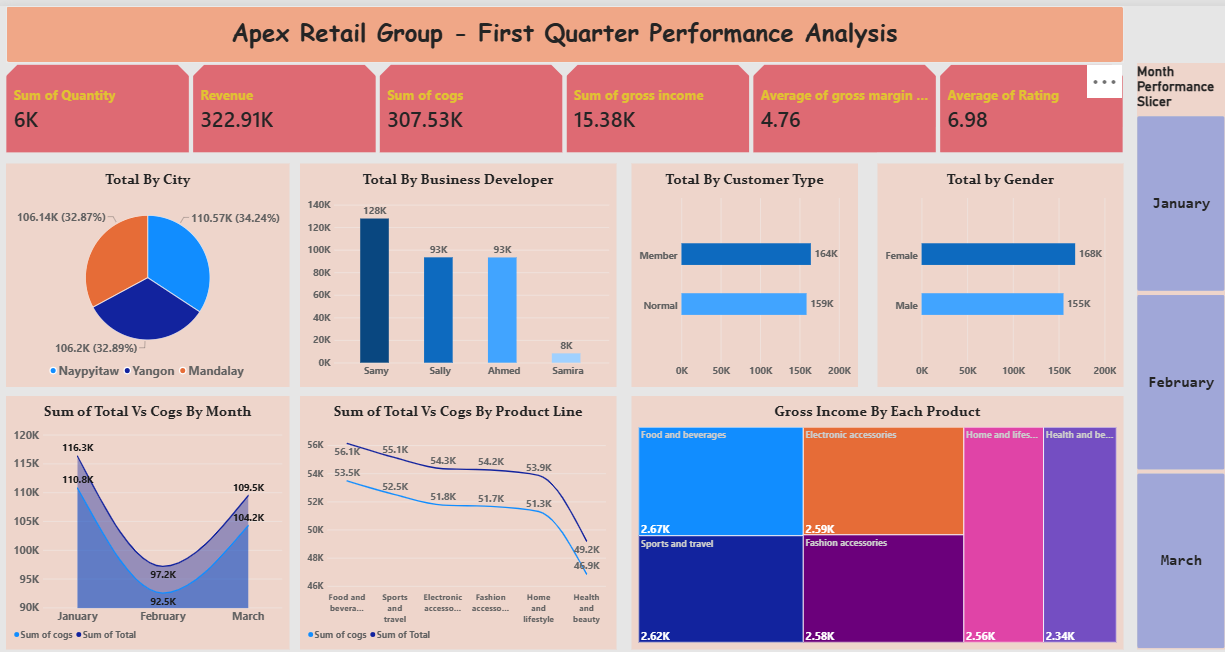

The dashboard page shown, as its layout file describes it:
{"tool":"powerbi","page":{"name":"Main Dashboard","canvas":[2800,1450],"ordinal":0},"visuals":[{"type":"cardVisual","fields":{"Data":["Sum(supermarket_sales - Sheet1.Quantity)","Sum(supermarket_sales - Sheet1.Total)","Sum(supermarket_sales - Sheet1.cogs)","Sum(supermarket_sales - Sheet1.gross income)","Avg(supermarket_sales - Sheet1.gross margin percentage)","Avg(supermarket_sales - Sheet1.Rating)"]},"box":[26.7,130,2483.3,196.7],"z":0},{"type":"pieChart","title":"Total By City","fields":{"Category":["supermarket_sales - Sheet1.City"],"Y":["Sum(supermarket_sales - Sheet1.Total)"]},"box":[26.7,350,630,496.7],"z":1000},{"type":"clusteredBarChart","title":"Total by Gender","fields":{"Category":["supermarket_sales - Sheet1.Gender"],"Y":["Sum(supermarket_sales - Sheet1.Total)"]},"box":[1963.3,350,546.7,496.7],"z":2000},{"type":"barChart","title":"Total By Customer Type","fields":{"Category":["supermarket_sales - Sheet1.Customer type"],"Y":["Sum(supermarket_sales - Sheet1.Total)"]},"box":[1416.7,350,503.3,496.7],"z":3000},{"type":"treemap","title":"Gross Income By Each Product","fields":{"Group":["supermarket_sales - Sheet1.Product line"],"Values":["Sum(supermarket_sales - Sheet1.gross income)"]},"box":[1416.7,866.7,1093.3,563.3],"z":4000},{"type":"areaChart","title":"Sum of Total Vs Cogs By Month","fields":{"Category":["supermarket_sales - Sheet1.Date.Variation.Date Hierarchy.Month"],"Y":["Sum(supermarket_sales - Sheet1.cogs)","Sum(supermarket_sales - Sheet1.Total)"]},"box":[26.7,866.7,630,563.3],"z":5000},{"type":"lineChart","title":"Sum of Total Vs Cogs By Product Line","fields":{"Category":["supermarket_sales - Sheet1.Product line"],"Y":["Sum(supermarket_sales - Sheet1.cogs)","Sum(supermarket_sales - Sheet1.Total)"]},"box":[680,866.7,703.3,563.3],"z":6000},{"type":"textbox","box":[26,0,2483.3,125],"z":7000},{"type":"clusteredColumnChart","title":"Total By Business Developer","fields":{"Category":["supermarket_sales - Sheet1.BD Name"],"Y":["Sum(supermarket_sales - Sheet1.Total)"]},"box":[680,350,703.3,496.7],"z":8000},{"type":"advancedSlicerVisual","title":"Month Performance Slicer","fields":{"Values":["supermarket_sales - Sheet1.Date.Variation.Date Hierarchy.Month"]},"box":[2540,126.7,210,1303.3],"z":9000},{"type":"image","box":[2262.3,228.6,135.8,82.8],"z":10000},{"type":"image","box":[1079.8,198.7,122.6,102.7],"z":11000},{"type":"image","box":[1835,225.2,129.2,99.4],"z":12000},{"type":"image","box":[1483.9,198.7,82.8,125.9],"z":13000},{"type":"image","box":[268.3,202.1,122.6,129.2],"z":14000},{"type":"image","box":[655.8,195.4,132.5,112.6],"z":15000}]}

Visuals, with their boxes in screenshot pixels (x1, y1, x2, y2), scaled from the page's 2800x1450 canvas onto the 1225x652 screenshot:
cardVisual - Sum(supermarket_sales - Sheet1.Quantity) x Sum(supermarket_sales - Sheet1.Total): crop(12, 58, 1098, 147)
"Total By City" pieChart: crop(12, 157, 287, 381)
"Total by Gender" clusteredBarChart: crop(859, 157, 1098, 381)
"Total By Customer Type" barChart: crop(620, 157, 840, 381)
"Gross Income By Each Product" treemap: crop(620, 390, 1098, 643)
"Sum of Total Vs Cogs By Month" areaChart: crop(12, 390, 287, 643)
"Sum of Total Vs Cogs By Product Line" lineChart: crop(298, 390, 605, 643)
textbox: crop(11, 0, 1098, 56)
"Total By Business Developer" clusteredColumnChart: crop(298, 157, 605, 381)
"Month Performance Slicer" advancedSlicerVisual: crop(1111, 57, 1203, 643)
image: crop(990, 103, 1049, 140)
image: crop(472, 89, 526, 136)
image: crop(803, 101, 859, 146)
image: crop(649, 89, 685, 146)
image: crop(117, 91, 171, 149)
image: crop(287, 88, 345, 138)
